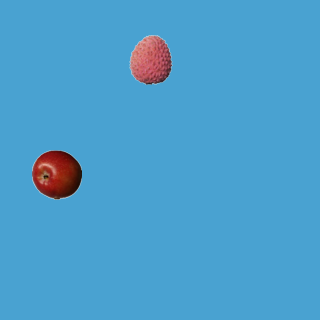Apple Braeburn: (31, 149, 81, 199)
Lychee: (125, 34, 175, 84)
